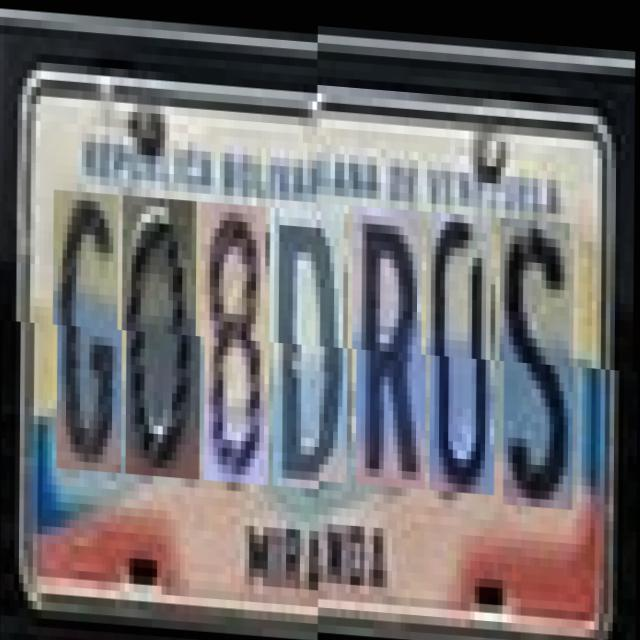0: (430, 213, 496, 495)
8: (204, 198, 270, 481)
D: (274, 202, 348, 486)
G: (57, 189, 123, 471)
O: (126, 193, 202, 476)
R: (356, 208, 427, 490)
S: (504, 217, 574, 508)
